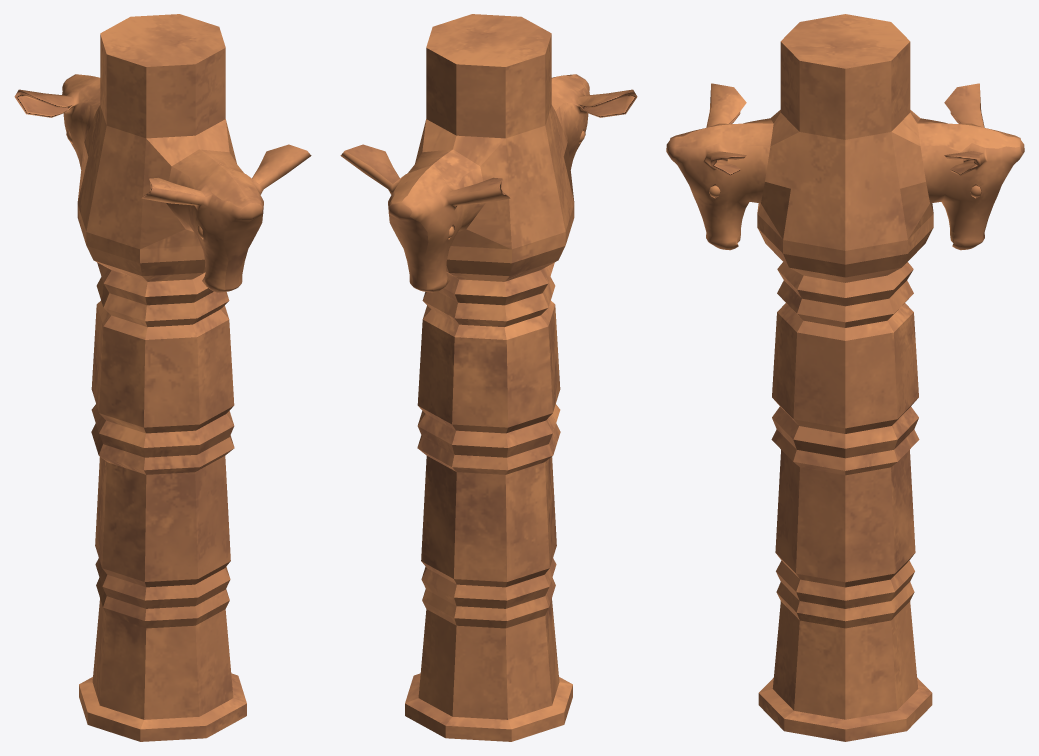
Rendered from cow_columnColored.fbx.
The picture shows the model from 3 angles, left to right: view 1: azimuth 30°, elevation 25°; view 2: azimuth 150°, elevation 25°; view 3: azimuth 270°, elevation 25°; orthographic projection.
Visible parts, largest first — view 1: CowHead:Head2; view 2: CowHead:Head2; view 3: CowHead:Head2.
Boxes of the visible parts, bbox=[...] form: CowHead:Head2: bbox=[14, 14, 311, 741]; CowHead:Head2: bbox=[340, 14, 637, 741]; CowHead:Head2: bbox=[666, 14, 1024, 741].
Bounding box in the file's own units: 116 × 453 × 222.
